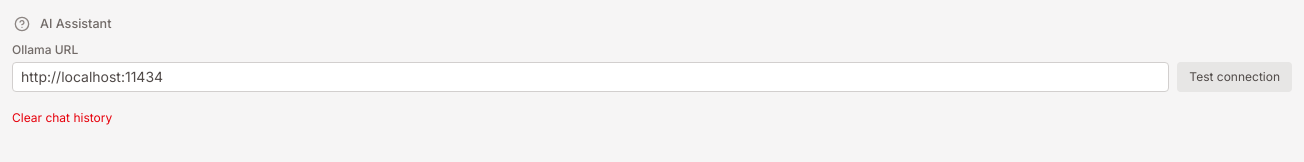
Test: LlmSettingsSection › shows not connected status when test connection fails
Click the button "Test connection" at (1235, 77), box [1177,62,1292,92]
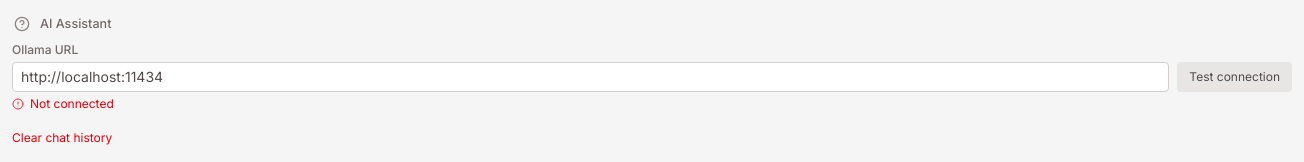
Expected: the text "Not connected" is shown, [30,96,114,112]
